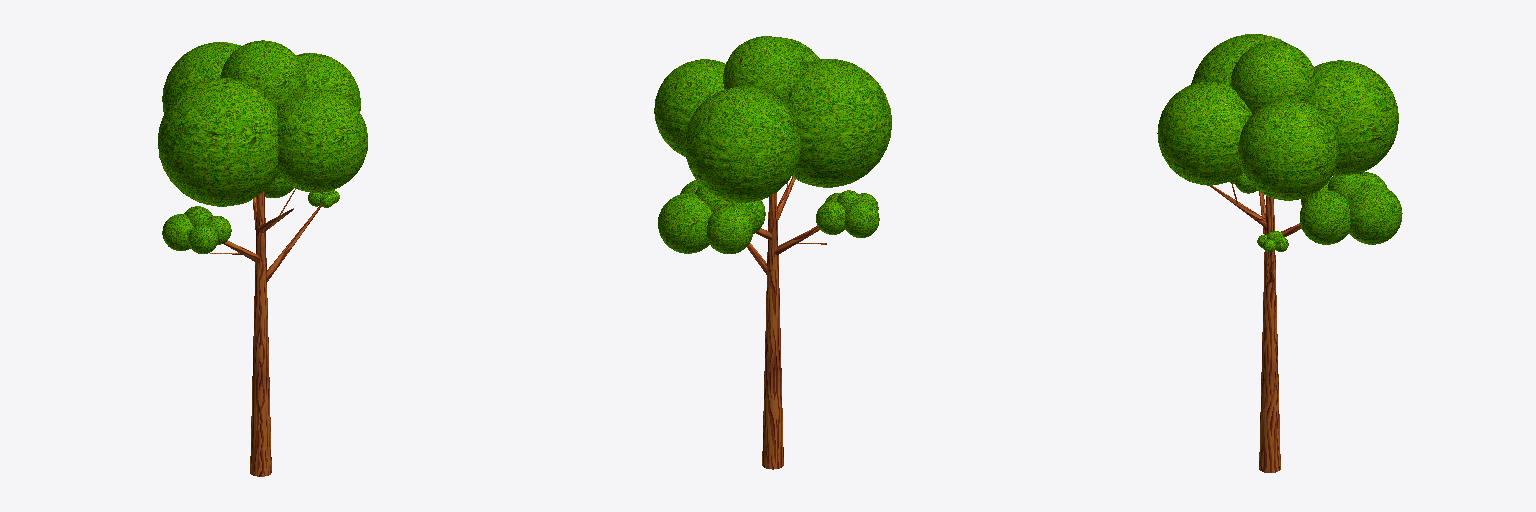
The picture shows the model from 3 angles: view 1: azimuth 30°, elevation 25°; view 2: azimuth 150°, elevation 25°; view 3: azimuth 270°, elevation 25°; orthographic projection.
Visible parts, largest first — view 1: arbol04_009, arbol04_001, arbol04_011; view 2: arbol04_009, arbol04_010, arbol04_001, arbol04_011; view 3: arbol04_009, arbol04_010, arbol04_001.
Boxes of the visible parts, x1=… form: arbol04_009: x1=158, y1=40, x2=367, y2=206; arbol04_001: x1=250, y1=191, x2=271, y2=476; arbol04_011: x1=162, y1=206, x2=231, y2=253; arbol04_009: x1=654, y1=36, x2=891, y2=202; arbol04_010: x1=658, y1=180, x2=765, y2=253; arbol04_001: x1=762, y1=192, x2=783, y2=469; arbol04_011: x1=816, y1=190, x2=879, y2=237; arbol04_009: x1=1157, y1=34, x2=1398, y2=200; arbol04_010: x1=1300, y1=172, x2=1402, y2=244; arbol04_001: x1=1259, y1=196, x2=1280, y2=472.
Size of the model in its own units: 87.09 by 172 by 89.95.
2 materials, 2 textured.